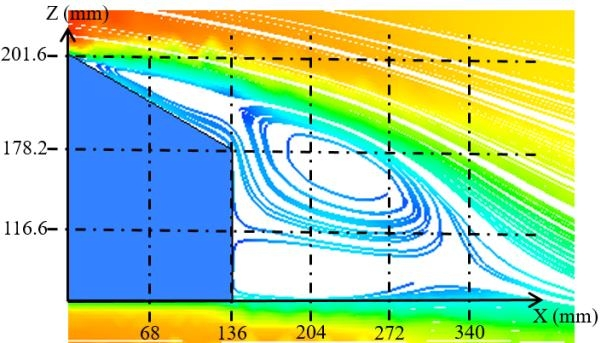vortox: (239, 105, 446, 249)
